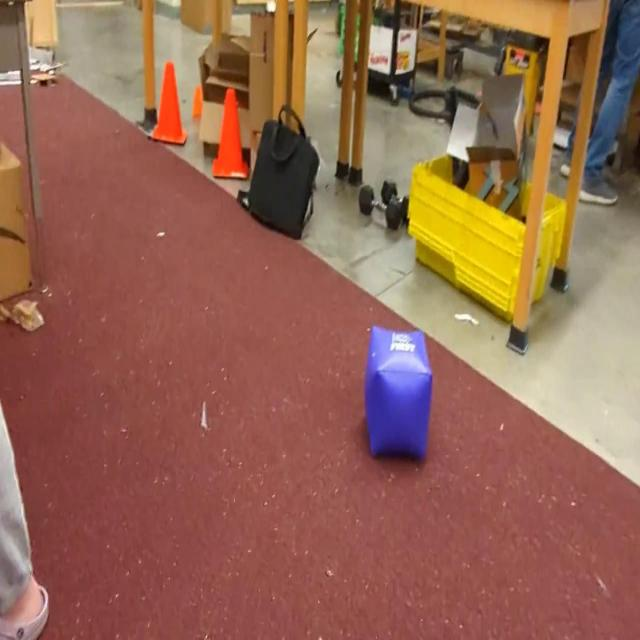frc_cube: (364, 322, 435, 465)
